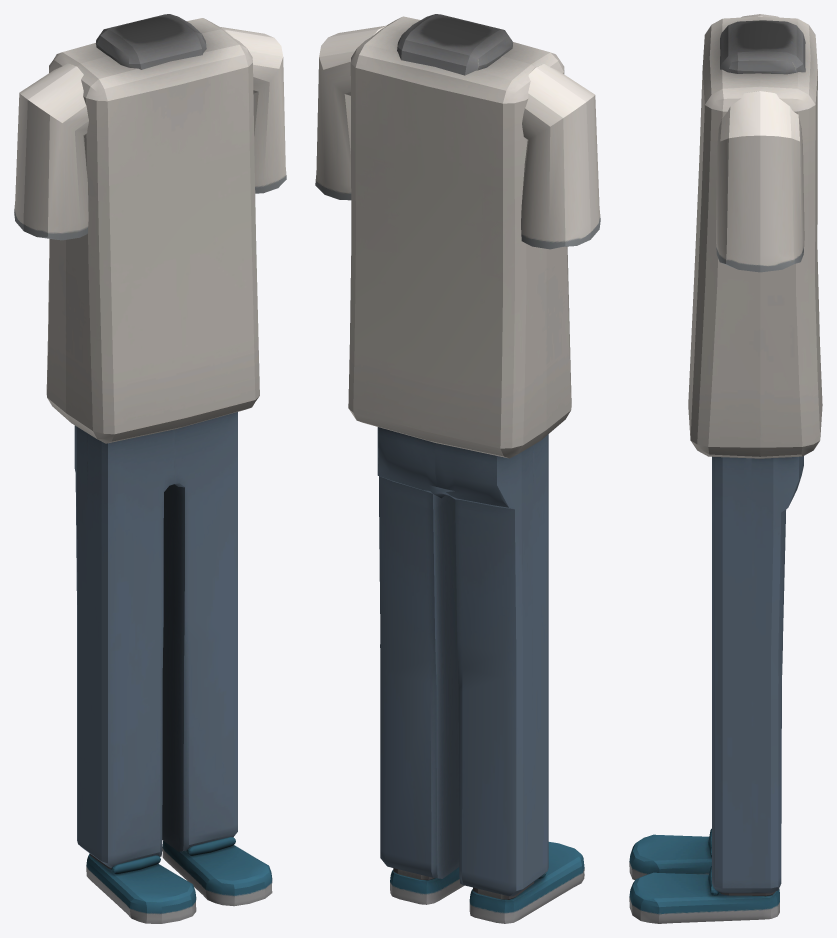
File: clothes.obj
3 views of the same model, side by side, from view 1: azimuth 30°, elevation 25°; view 2: azimuth 150°, elevation 25°; view 3: azimuth 270°, elevation 25° (orthographic). The views are drawn at different scales.
Visible parts, largest first — view 1: Body; view 2: Body; view 3: Body.
Part boxes in pixels (<box>): Body: <box>14,14,286,923</box>; Body: <box>315,14,600,923</box>; Body: <box>629,14,822,923</box>.
Size of the model in its own units: 0.4492 by 1.41 by 0.2898.
Materials: 1 (1 with a texture image).
